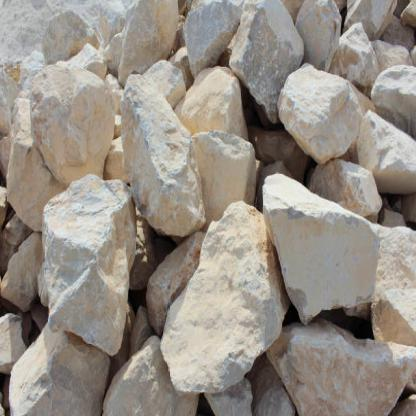Sedimentary_Limestone: (289, 196, 382, 313), (196, 244, 264, 384), (67, 196, 125, 332), (295, 76, 362, 186), (135, 82, 188, 207), (43, 76, 114, 142)
